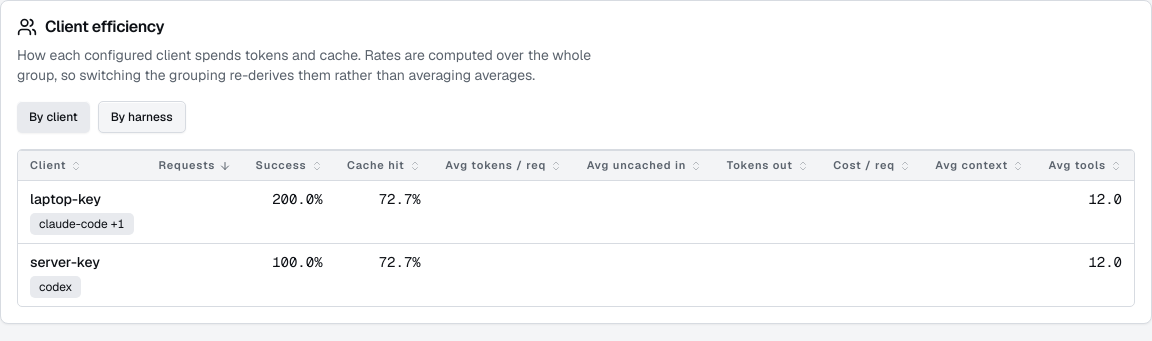
ClientEfficiencyTable grouping toggle › returns to the client grouping without losing the +N marking
This screenshot has width=1152, height=341.
Click the button "By harness".
click(142, 117)  # box [98,101,186,133]
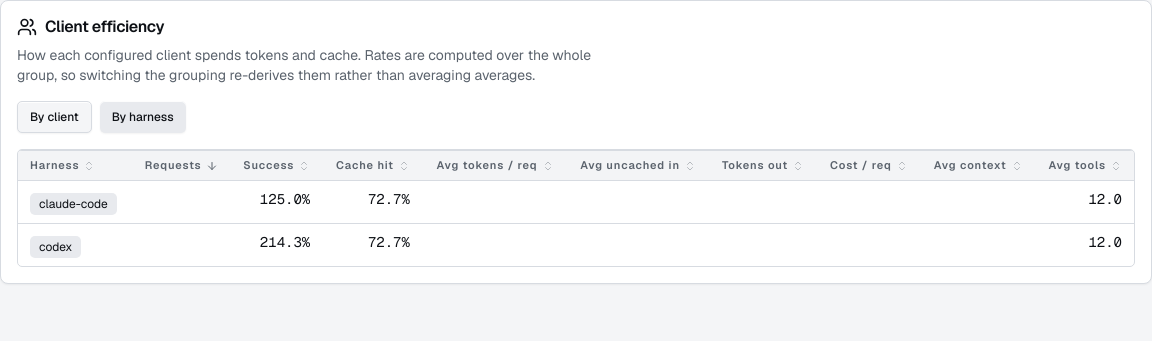
Click the button "By client".
click(54, 117)  # box [17,101,92,133]
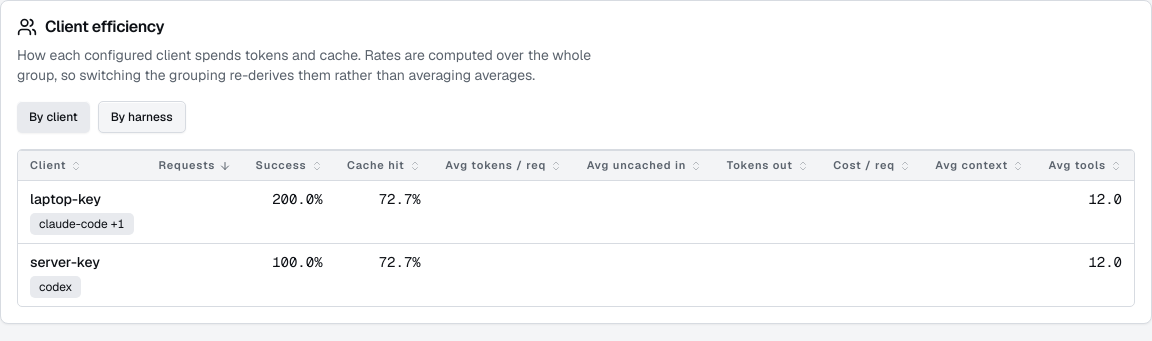
Result: the cell "laptop-key claude-code +1" is shown at [18,181,146,244]
